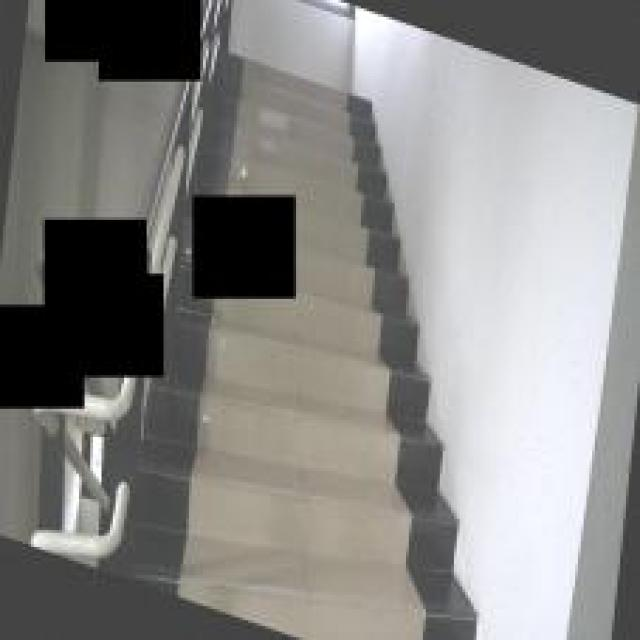upstair: (180, 305, 432, 637)
